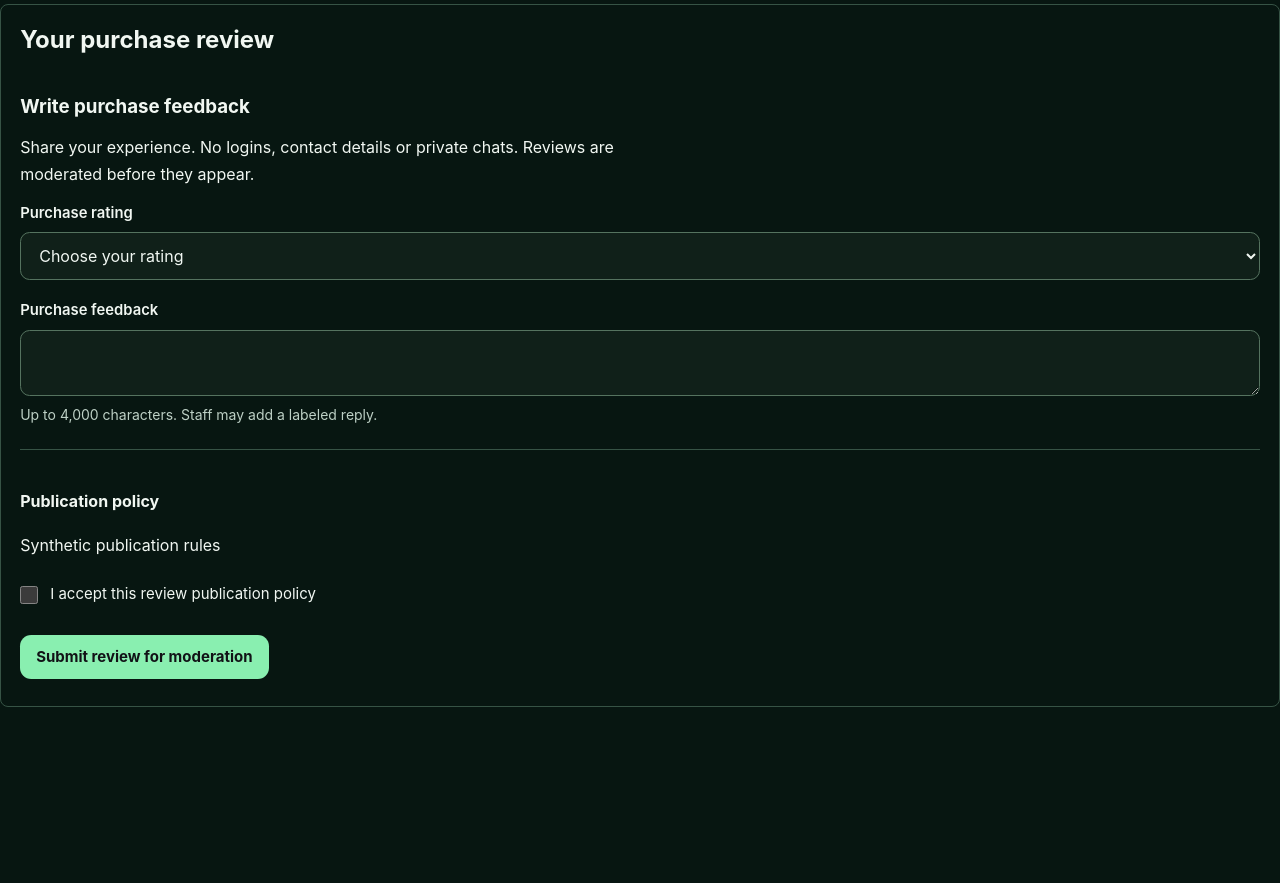
keeps focus in the last corrected field after a server validation error
Select "4 — Good" in the dropdown labelled "Purchase rating" at (640, 256), box [20,232,1260,280]
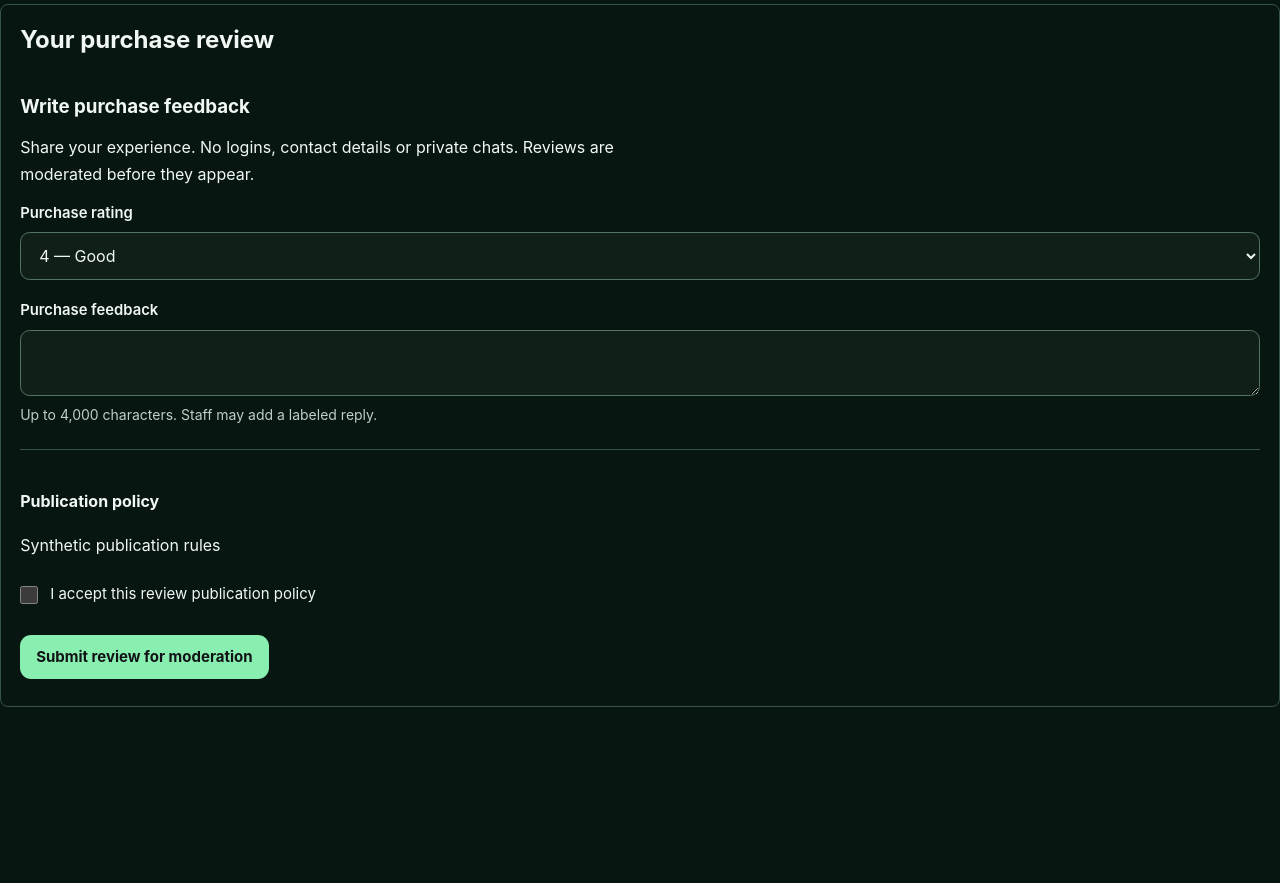
Type "Initial feedback" into the text box labelled "Purchase feedback" at (640, 363), box [20,330,1260,396]
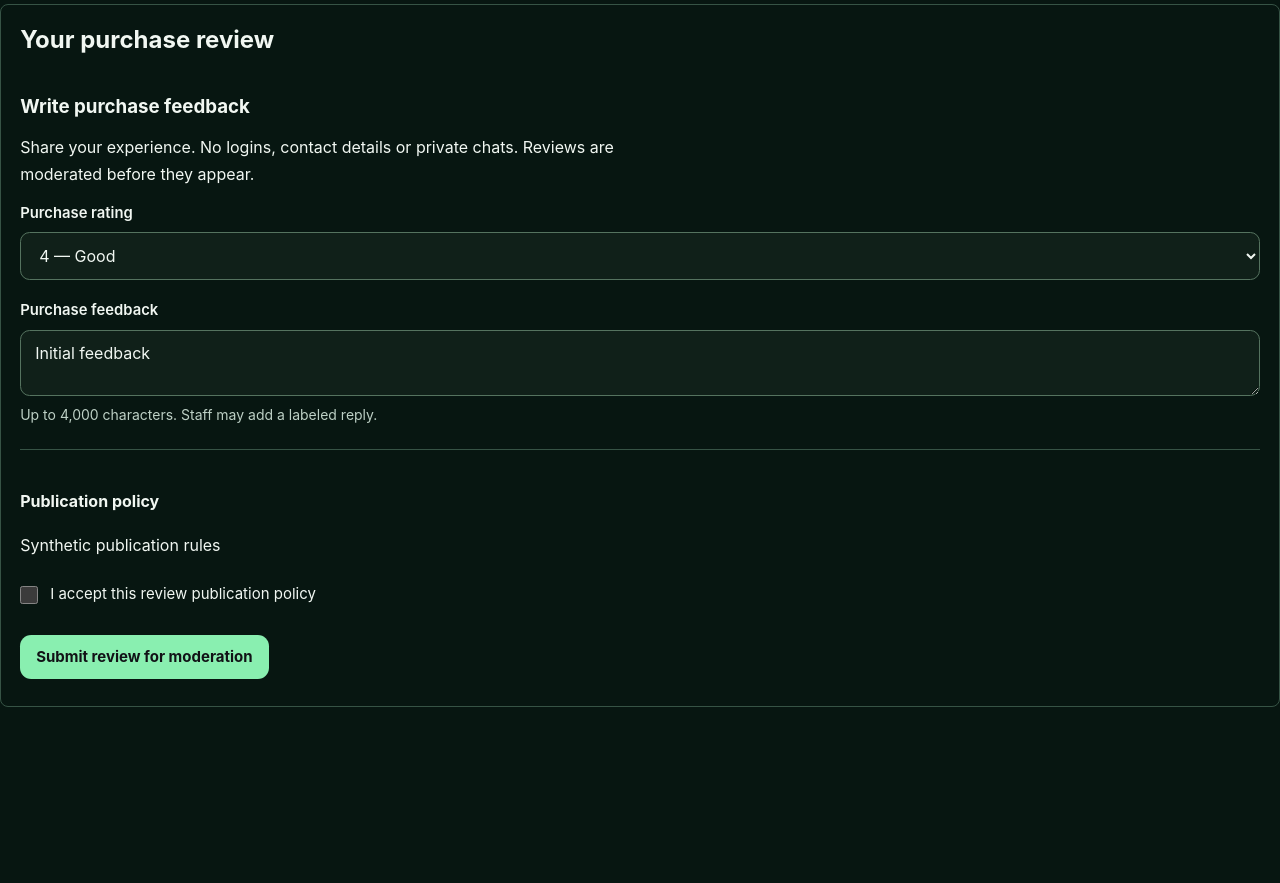
Click the checkbox labelled "I accept this review publication policy" at (29, 595), box [20,586,38,604]
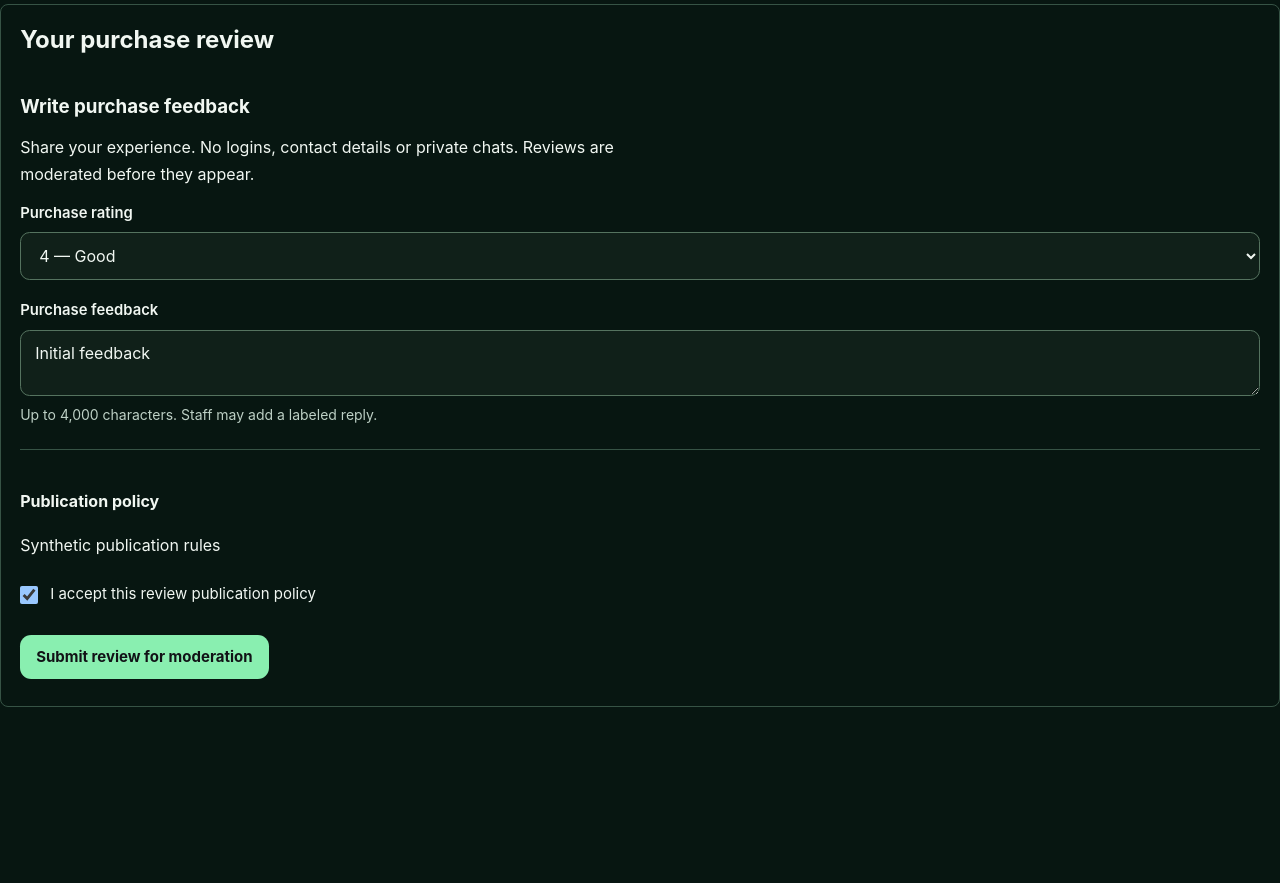
Click the button "Submit review for moderation" at (144, 657), box [20,635,269,679]
(page scrolled)
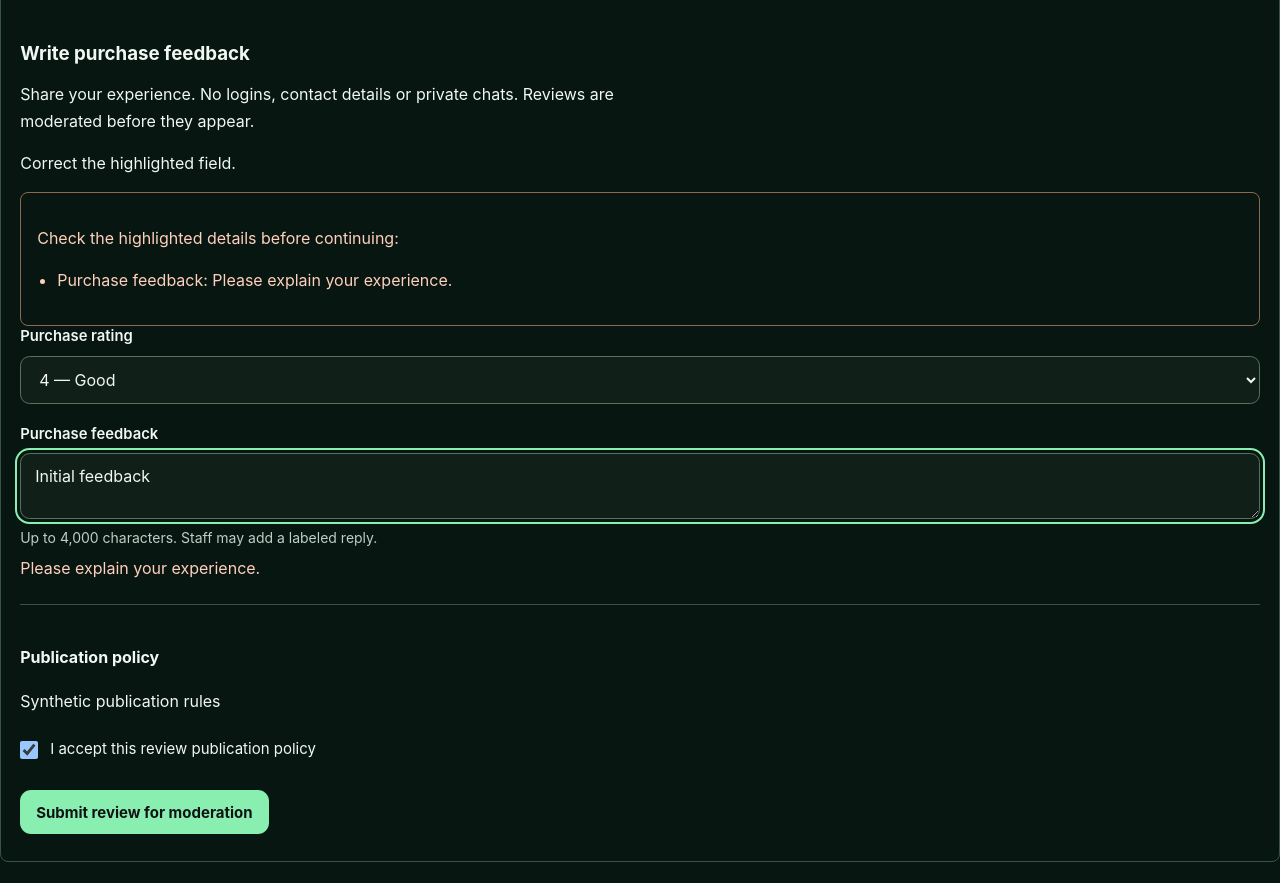
Now the text box labelled "Purchase feedback" is marked as invalid
Replace the text in the text box labelled "Purchase feedback" with "My detailed experience." at (640, 486), box [20,453,1260,519]
(page scrolled)
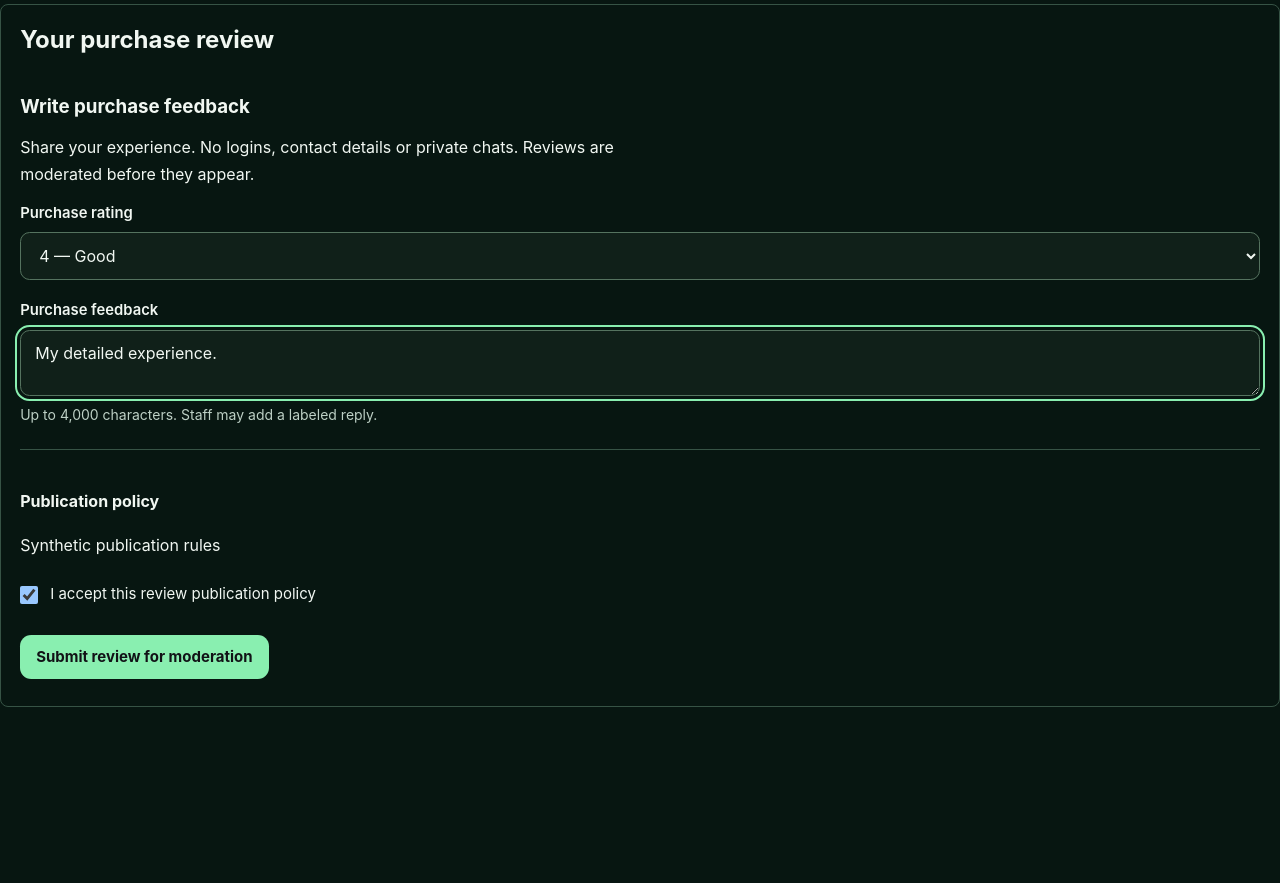
Now the text "Correct the highlighted field." is gone
